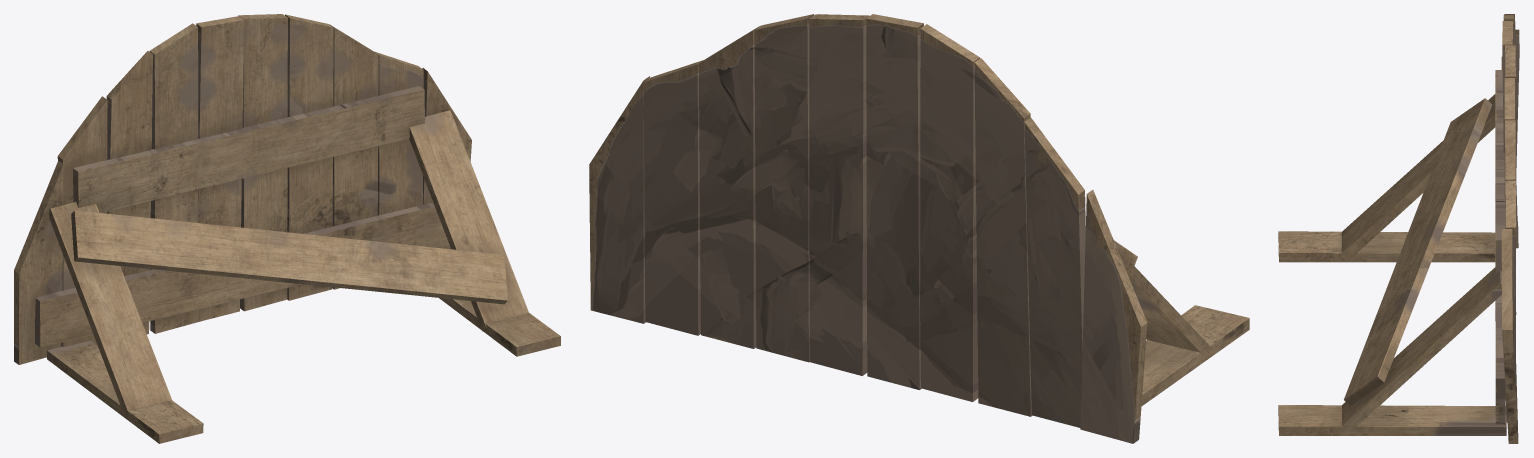
File: prop_square.fbx
The picture shows the model from 3 angles, left to right: view 1: azimuth 30°, elevation 25°; view 2: azimuth 150°, elevation 25°; view 3: azimuth 270°, elevation 25°; orthographic projection. The views are drawn at different scales.
Parts seen in each view (by area): view 1: prop_square; view 2: prop_square; view 3: prop_square.
Boxes of the visible parts, x1,y1,x2,y2 form: prop_square: (14, 14, 560, 443); prop_square: (589, 14, 1249, 443); prop_square: (1278, 14, 1519, 443).
Size of the model in its own units: 214 by 134 by 99.04.
